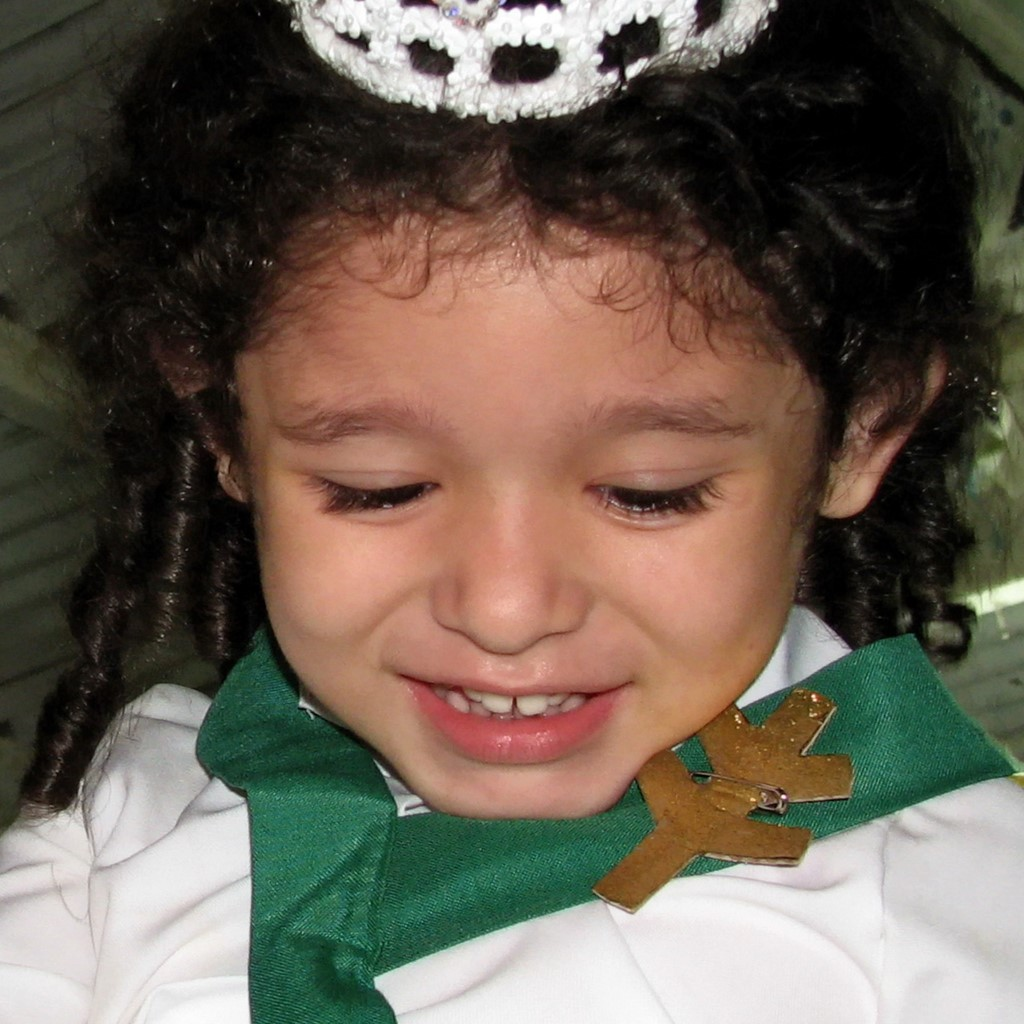sin_mascara: (258, 182, 831, 846)
